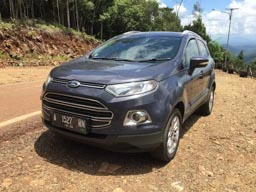plat: (52, 114, 88, 139)
